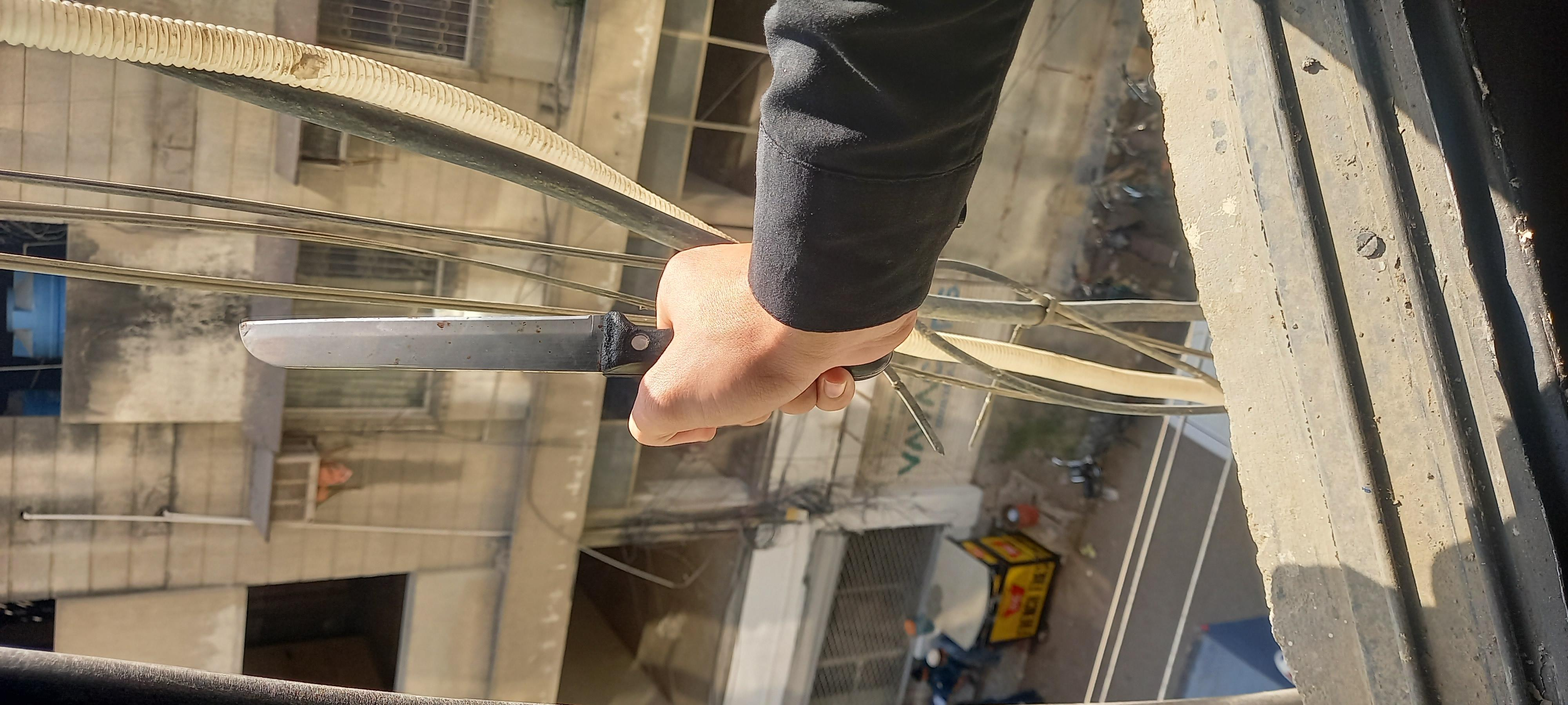knives: (678, 102, 932, 344)
